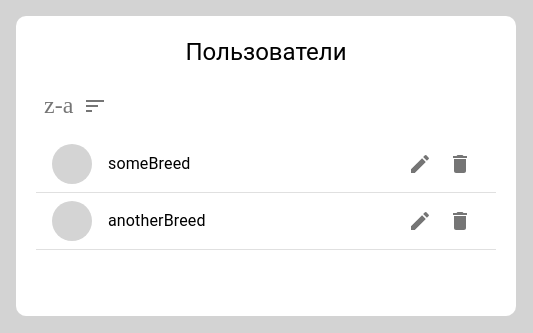
Test Component › Удаление элемента из списка
Click the button with test id "button_delete" in the row of "someBreed".
click(460, 164)  # box [440,144,480,184]
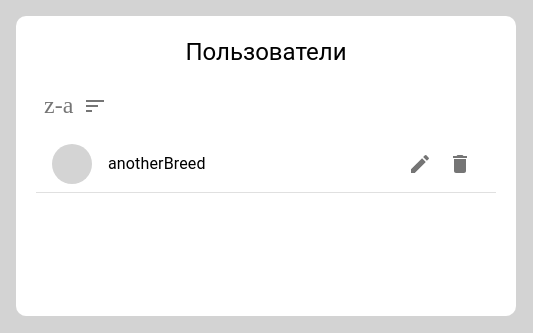
Check: the text "anotherBreed" is shown, box [108,154,206,173]
Check: the text "someBreed" is gone
